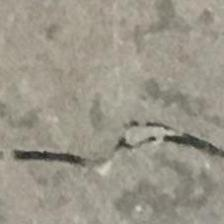Crack: (0, 69, 224, 224)
